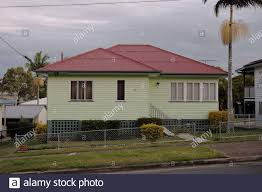Tin-shade House: (26, 41, 231, 139)
